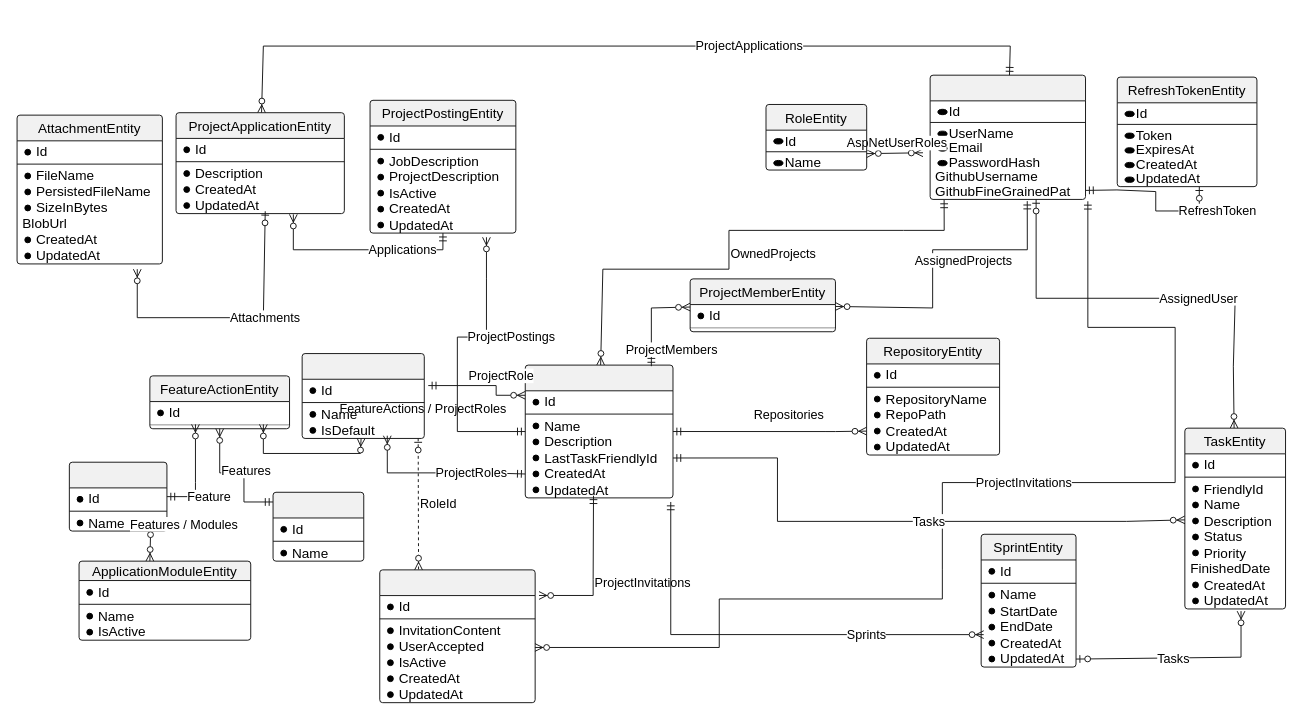
Some shapes in this 1303 by 720 pixel diagram are drawn without their labels. Each missing label, with the box of its shape:
ActionEntity: (272, 491, 364, 561)
FeatureEntity: (68, 461, 167, 531)
ProjectEntity: (524, 364, 673, 498)
ProjectInvitationEntity: (379, 569, 535, 703)
ProjectRoleEntity: (301, 353, 424, 438)
UserEntity: (929, 74, 1086, 199)
